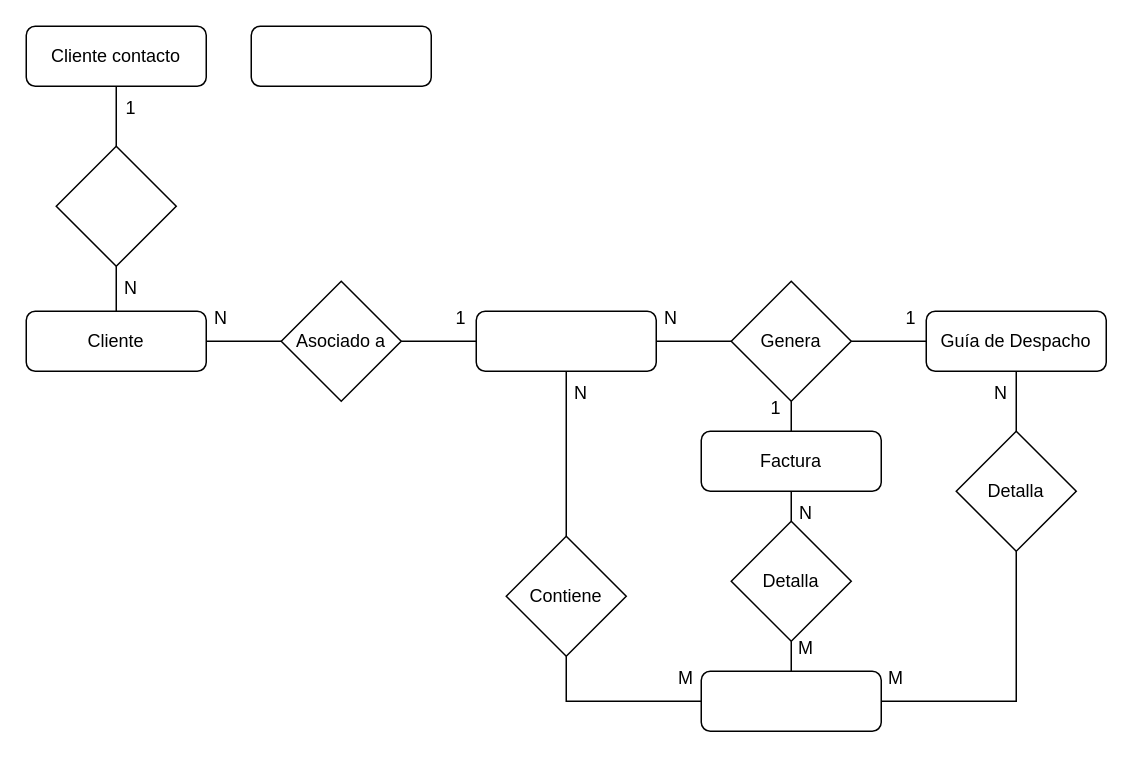
Some shapes in this 1133 by 758 pixel diagram are drawn without their labels. The shapes that lost their labels are listed below. From the top down, each one's centre as x and y in pixels, then its label:
At (340,55): "Usuario".
At (115,205): "Pertenece a".
At (565,340): "Venta".
At (790,700): "Producto".
